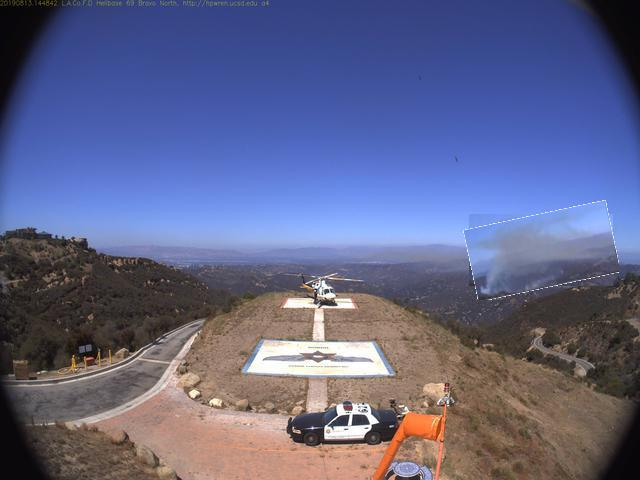smoke: (467, 208, 618, 295)
